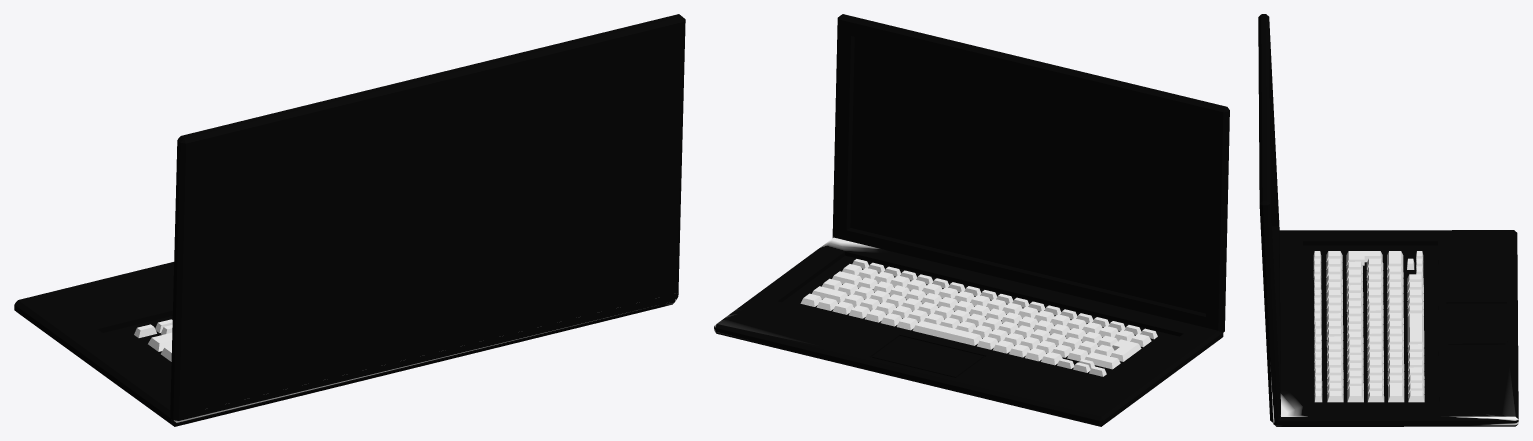
The picture shows the model from 3 angles, left to right: view 1: azimuth 30°, elevation 25°; view 2: azimuth 150°, elevation 25°; view 3: azimuth 270°, elevation 25°; orthographic projection. The views are drawn at different scales.
Parts seen in each view (by area): view 1: 立方体.001; view 2: 立方体.001; view 3: 立方体.001.
Boxes of the visible parts, left/top/right/bottom form: 立方体.001: left=14, top=14, right=685, bottom=426; 立方体.001: left=714, top=14, right=1229, bottom=426; 立方体.001: left=1258, top=14, right=1518, bottom=426.
Bounding box in the file's own units: 3.08 × 1.71 × 1.79.
1 material, 1 textured.
